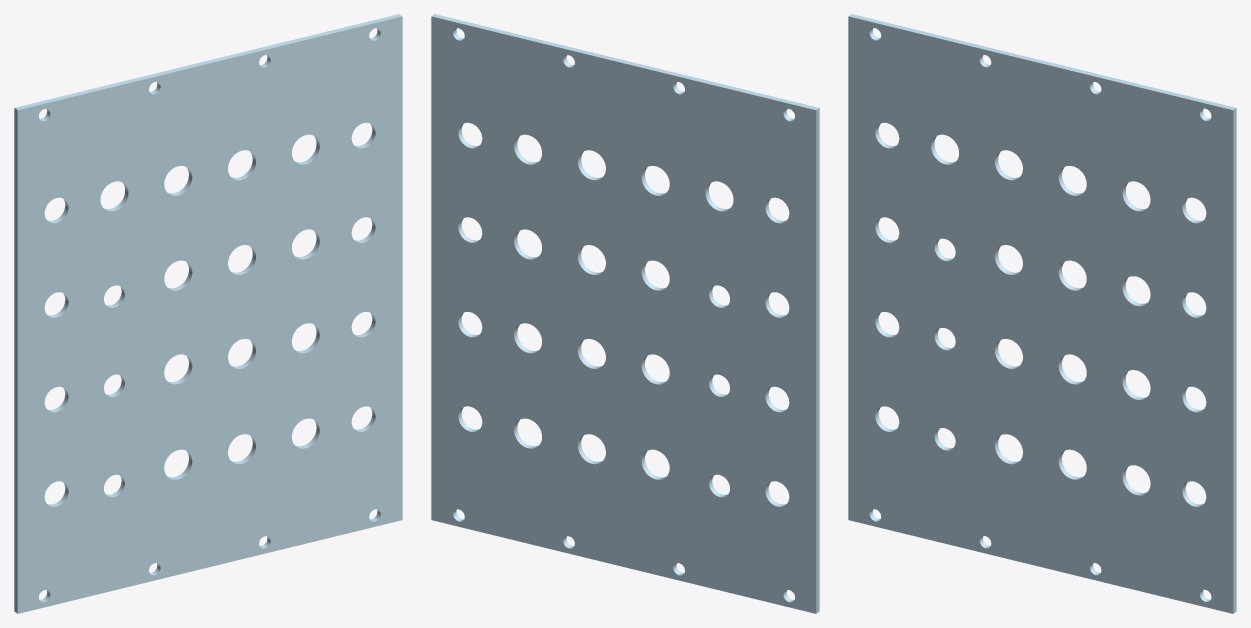
Rendered from panel.gltf.
The picture shows the model from 3 angles, left to right: view 1: azimuth 30°, elevation 25°; view 2: azimuth 150°, elevation 25°; view 3: azimuth 330°, elevation 25°; orthographic projection.
Parts seen in each view (by area): view 1: Panel; view 2: Panel; view 3: Panel.
Boxes of the visible parts, x1,y1,x2,y2 form: Panel: (14, 14, 402, 613); Panel: (431, 14, 819, 613); Panel: (848, 14, 1236, 613).
Bounding box in the file's own units: 0.1065 × 0.1332 × 0.00159.
